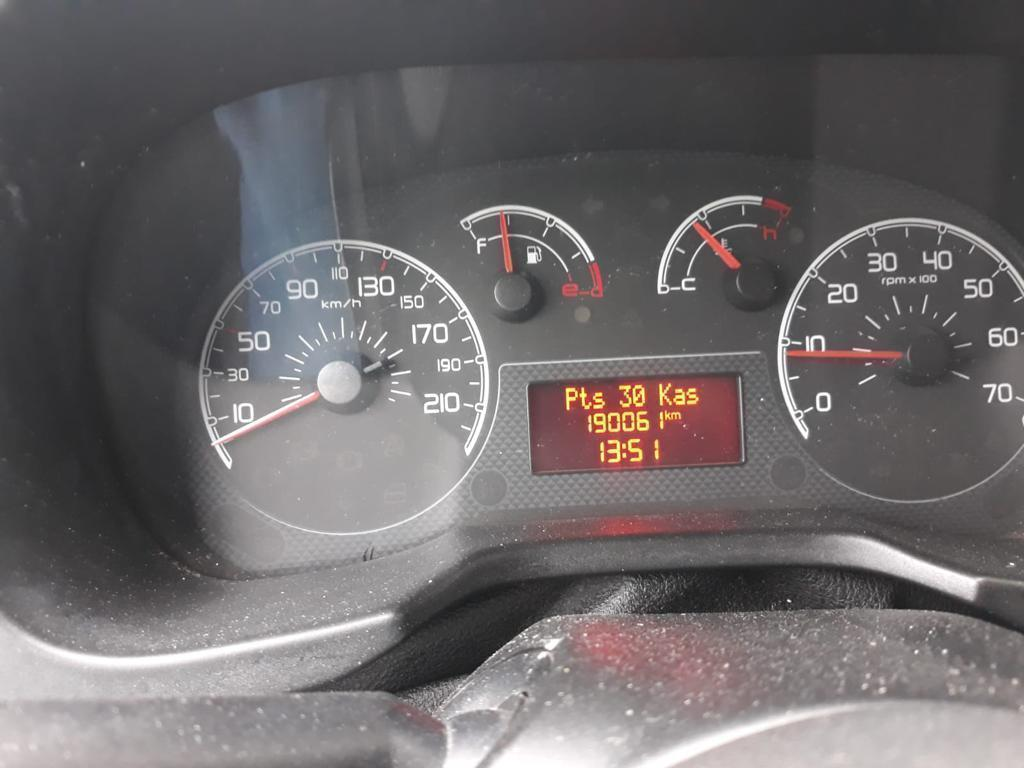0: (632, 383, 646, 407), (622, 410, 635, 432), (607, 411, 620, 433)
1: (653, 438, 661, 463), (584, 412, 593, 432), (599, 438, 604, 465), (658, 410, 664, 431)
3: (606, 437, 620, 464), (618, 383, 632, 408)
5: (627, 437, 644, 463)
6: (636, 409, 650, 432)
9: (594, 411, 606, 433)
X: (658, 381, 672, 406), (578, 386, 592, 410), (564, 386, 578, 410), (686, 386, 699, 406), (672, 386, 685, 406), (592, 390, 605, 409), (671, 411, 682, 420), (621, 441, 626, 459), (664, 409, 670, 420)
odometer: (523, 369, 757, 476)
